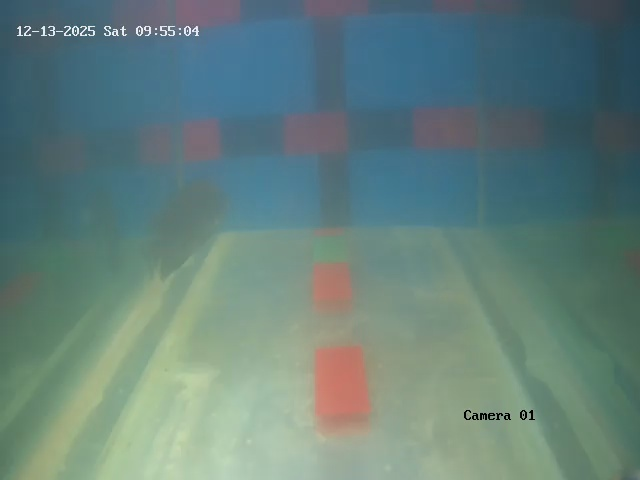fish: (138, 175, 240, 281)
